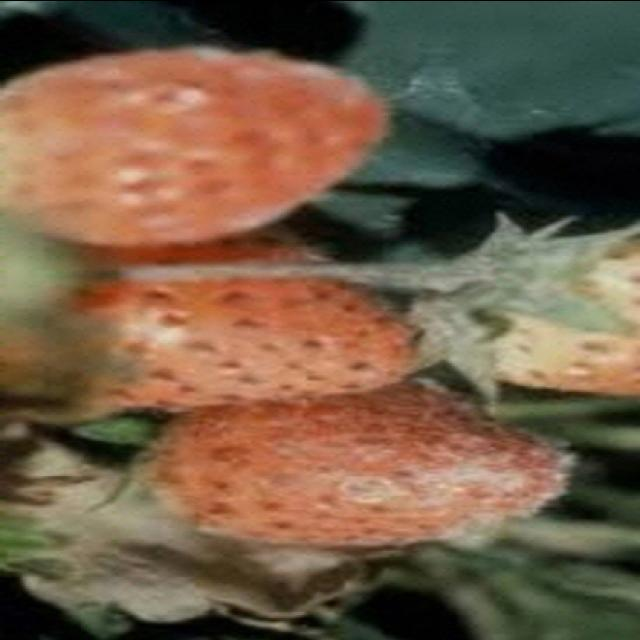Powdery Mildew Fruit: (0, 42, 384, 248), (40, 217, 423, 417), (135, 375, 573, 548)
